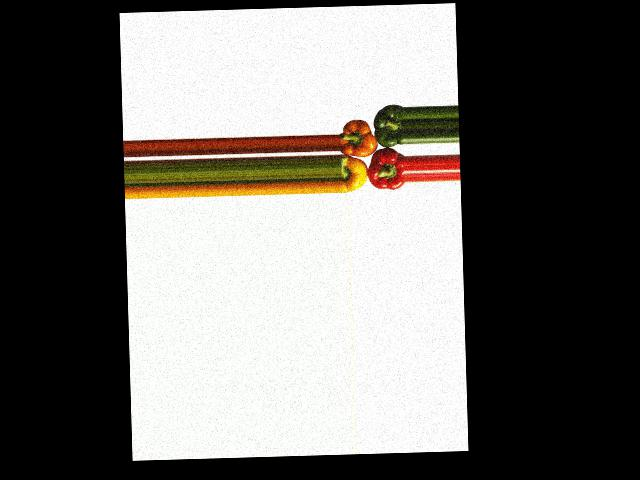bell_pepper: (339, 152, 370, 193)
